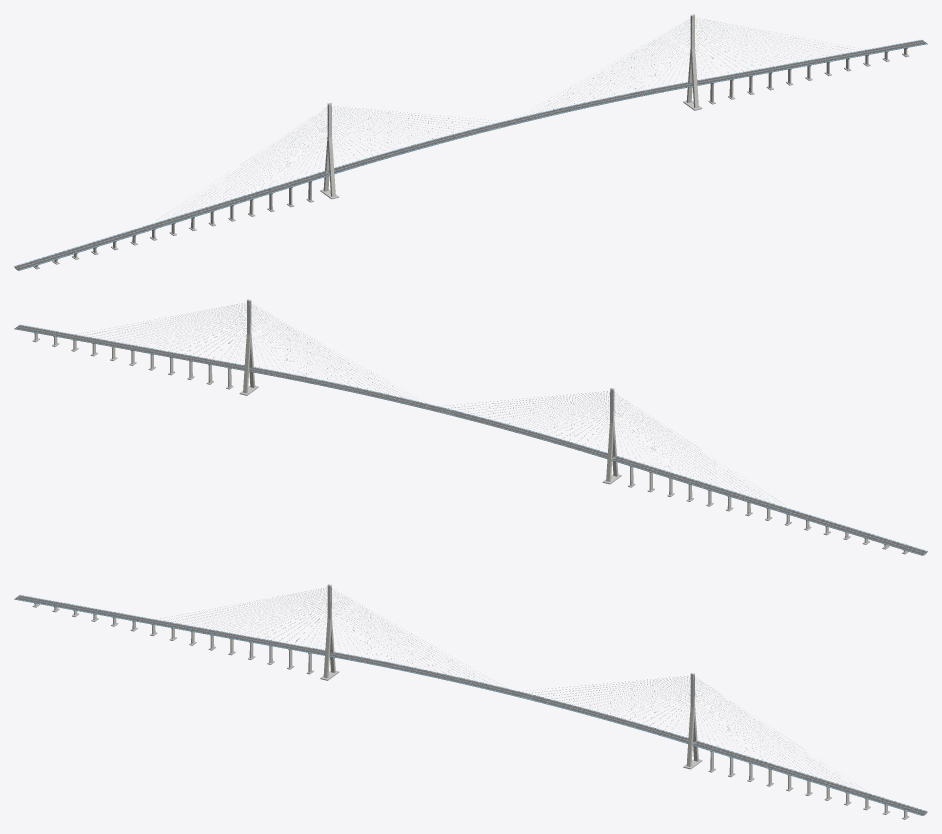
File: source.glb
The picture shows the model from 3 angles, top to bottom: view 1: azimuth 30°, elevation 25°; view 2: azimuth 150°, elevation 25°; view 3: azimuth 330°, elevation 25°; orthographic projection.
Visible parts, largest first — view 1: worldgen; view 2: worldgen; view 3: worldgen.
Part boxes in pixels (x1,y1,x2,y2): worldgen: (14, 14, 927, 270); worldgen: (14, 299, 927, 555); worldgen: (14, 584, 927, 819).
Bounding box in the file's own units: 2141 × 208 × 47.
